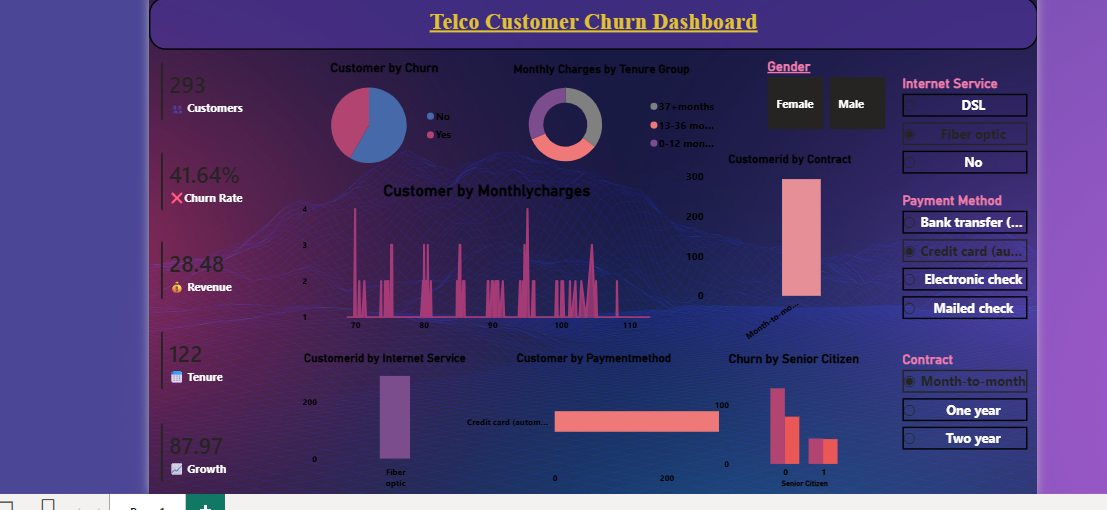

This screenshot's page, from the dashboard's own definition file:
{"tool":"powerbi","page":{"name":"Page 1","canvas":[1280,720],"ordinal":0},"visuals":[{"type":"pieChart","title":"Customer by Churn","fields":{"Category":["Telco_Customer.churn"],"Y":["CountNonNull(Telco_Customer.customerid)"]},"box":[229,95,220.3,167],"z":0},{"type":"cardVisual","fields":{"Data":["Telco_Customer.Total Churn Customer"]},"box":[0,468,203,119.5],"z":1000},{"type":"cardVisual","fields":{"Data":["Telco_Customer.Churn Rate"]},"box":[0,210.2,203,119.5],"z":2000},{"type":"textbox","box":[0,4.4,1280.5,76.1],"z":3000},{"type":"advancedSlicerVisual","title":"Gender","fields":{"Values":["Telco_Customer.gender"]},"box":[885.6,92.2,181.4,108],"z":4000},{"type":"clusteredColumnChart","title":"Customerid by Contract","fields":{"Category":["Telco_Customer.contract"],"Y":["CountNonNull(Telco_Customer.customerid)"]},"box":[767.5,227.5,311,285.1],"z":5000},{"type":"barChart","title":"Customer by Paymentmethod","fields":{"Category":["Telco_Customer.paymentmethod"],"Y":["CountNonNull(Telco_Customer.customerid)"]},"box":[439.2,514.1,403.2,201.6],"z":6000},{"type":"columnChart","title":"Customerid by Internet Service","fields":{"Category":["Telco_Customer.internetservice"],"Y":["CountNonNull(Telco_Customer.customerid)"]},"box":[216,514.1,247.7,205.9],"z":7000},{"type":"lineChart","title":"Customer by Monthlycharges","fields":{"Category":["Telco_Customer.monthlycharges"],"Y":["Count(Telco_Customer.customerid)"]},"box":[216,269.3,541.4,226.1],"z":8000},{"type":"donutChart","title":"Monthly Charges by Tenure Group","fields":{"Category":["Telco_Customer.Tenure Group"],"Y":["Telco_Customer.Avg Monthly Charges"]},"box":[473.8,97.9,355.7,161.3],"z":9000},{"type":"listSlicer","title":"Internet Service","fields":{"Values":["Telco_Customer.internetservice"]},"box":[1080,116.6,190.1,152.6],"z":10000},{"type":"cardVisual","fields":{"Data":["Telco_Customer.Avg Monthly Charges"]},"box":[0,600.5,203,119.5],"z":11000},{"type":"cardVisual","fields":{"Data":["Telco_Customer.Average Tenure"]},"box":[0,338.4,203,119.5],"z":12000},{"type":"cardVisual","fields":{"Data":["Telco_Customer.Total Customer"]},"box":[0,80.6,203,119.5],"z":13000},{"type":"listSlicer","title":"Payment Method","fields":{"Values":["Telco_Customer.paymentmethod"]},"box":[1080,285.1,190.1,194.4],"z":14000},{"type":"listSlicer","title":"Contract","fields":{"Values":["Telco_Customer.contract"]},"box":[1080,514.1,190.1,194.4],"z":15000},{"type":"clusteredColumnChart","title":"Churn by Senior Citizen","fields":{"Category":["Telco_Customer.seniorcitizen"],"Y":["CountNonNull(Telco_Customer.customerid)"],"Series":["Telco_Customer.churn"]},"box":[809.3,514.1,239,201.6],"z":16000}]}

Visuals, with their boxes on the page's 1280x720 design canvas (x1, y1, x2, y2). These are canvas units, not pixel positions in the 1107x510 screenshot, which may show the page scaled, cropped or inside an application window:
"Customer by Churn" pieChart: BBox(229, 95, 449, 262)
cardVisual - Telco_Customer.Total Churn Customer: BBox(0, 468, 203, 588)
cardVisual - Telco_Customer.Churn Rate: BBox(0, 210, 203, 330)
textbox: BBox(0, 4, 1280, 80)
"Gender" advancedSlicerVisual: BBox(886, 92, 1067, 200)
"Customerid by Contract" clusteredColumnChart: BBox(768, 228, 1078, 513)
"Customer by Paymentmethod" barChart: BBox(439, 514, 842, 716)
"Customerid by Internet Service" columnChart: BBox(216, 514, 464, 720)
"Customer by Monthlycharges" lineChart: BBox(216, 269, 757, 495)
"Monthly Charges by Tenure Group" donutChart: BBox(474, 98, 830, 259)
"Internet Service" listSlicer: BBox(1080, 117, 1270, 269)
cardVisual - Telco_Customer.Avg Monthly Charges: BBox(0, 600, 203, 720)
cardVisual - Telco_Customer.Average Tenure: BBox(0, 338, 203, 458)
cardVisual - Telco_Customer.Total Customer: BBox(0, 81, 203, 200)
"Payment Method" listSlicer: BBox(1080, 285, 1270, 480)
"Contract" listSlicer: BBox(1080, 514, 1270, 708)
"Churn by Senior Citizen" clusteredColumnChart: BBox(809, 514, 1048, 716)
